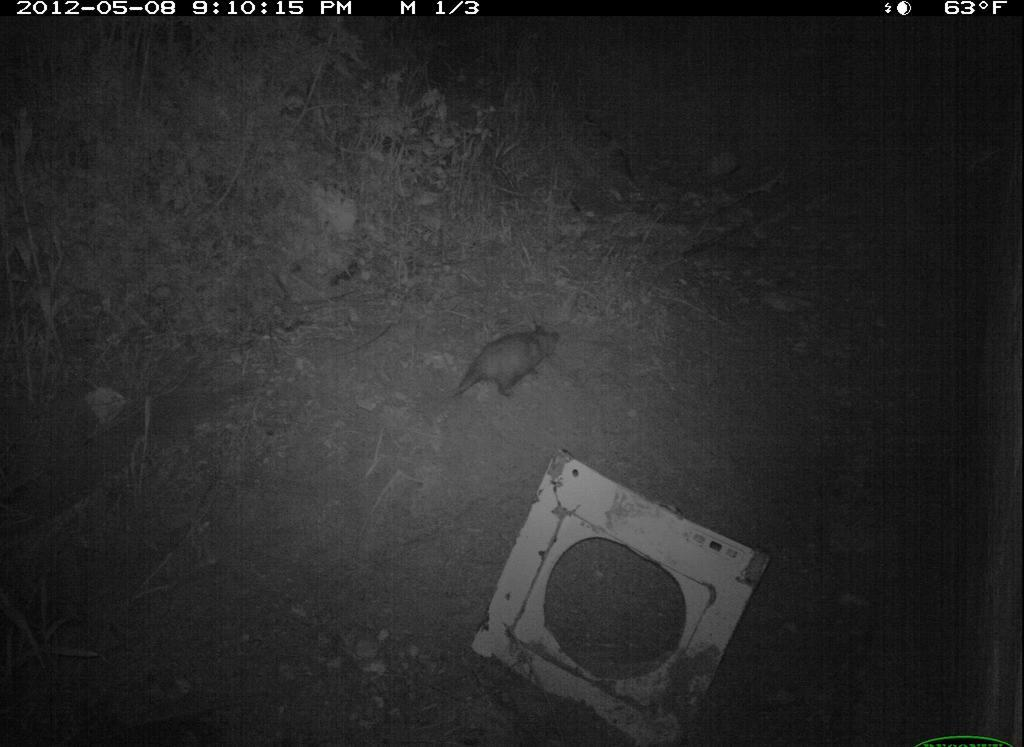opossum: (440, 314, 573, 413)
